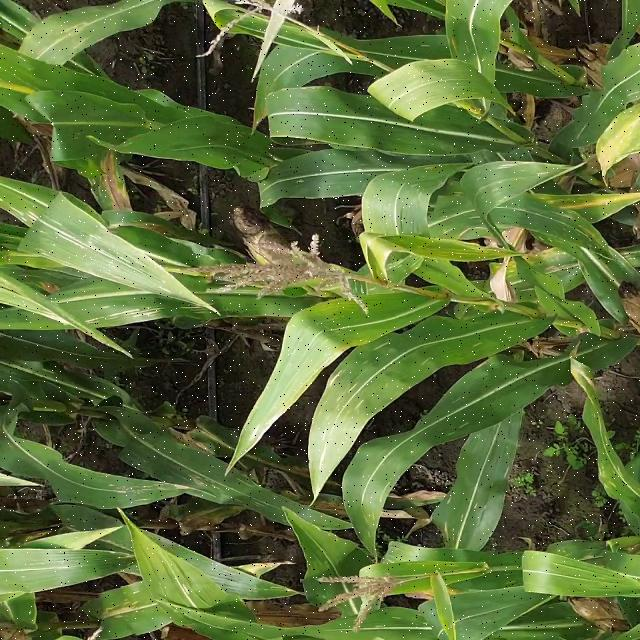gray-leaf-spot: (18, 204, 200, 329), (306, 349, 441, 435), (361, 479, 492, 550), (49, 22, 120, 66)
southern-leaf-blight: (416, 161, 514, 241), (513, 196, 614, 256), (80, 591, 178, 640), (126, 464, 222, 508)
